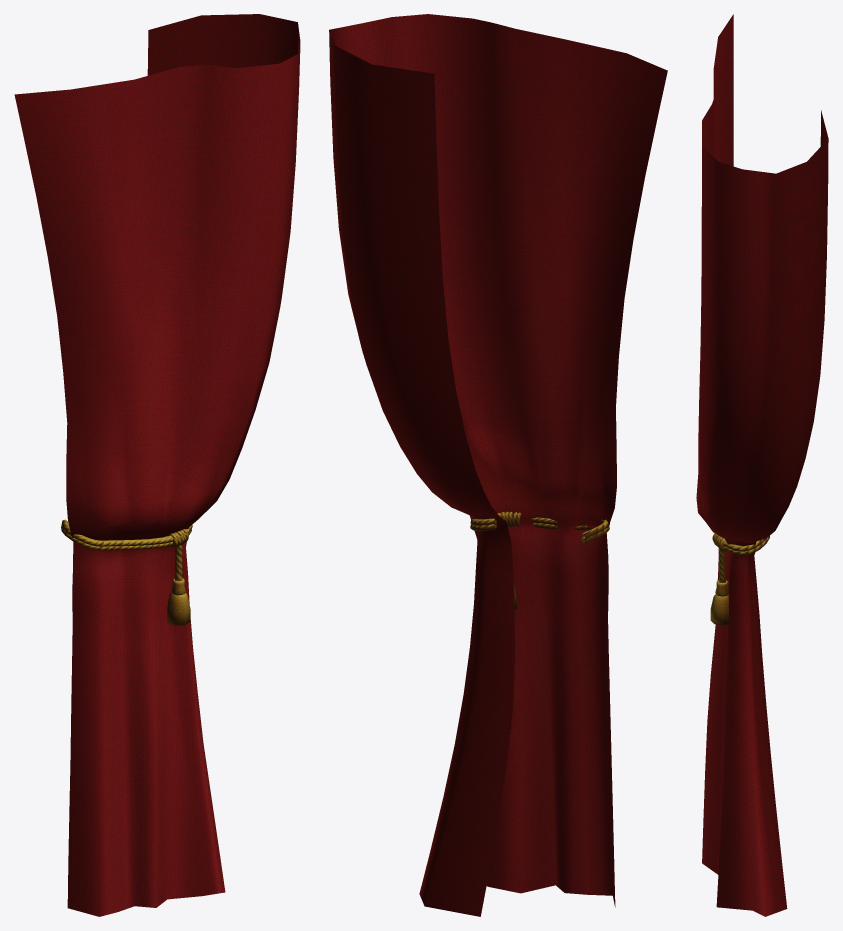
The model's file is SideCurtain.obj.
The picture shows the model from 3 angles, left to right: view 1: azimuth 30°, elevation 25°; view 2: azimuth 150°, elevation 25°; view 3: azimuth 270°, elevation 25°; orthographic projection. The views are drawn at different scales.
Parts seen in each view (by area): view 1: Model_SideCurtain; view 2: Model_SideCurtain; view 3: Model_SideCurtain.
Boxes of the visible parts, x1=… form: Model_SideCurtain: x1=14, y1=14, x2=300, y2=916; Model_SideCurtain: x1=329, y1=14, x2=667, y2=916; Model_SideCurtain: x1=696, y1=14, x2=828, y2=916.
Size of the model in its own units: 3.45 by 9.05 by 1.35.
1 material, 1 textured.
